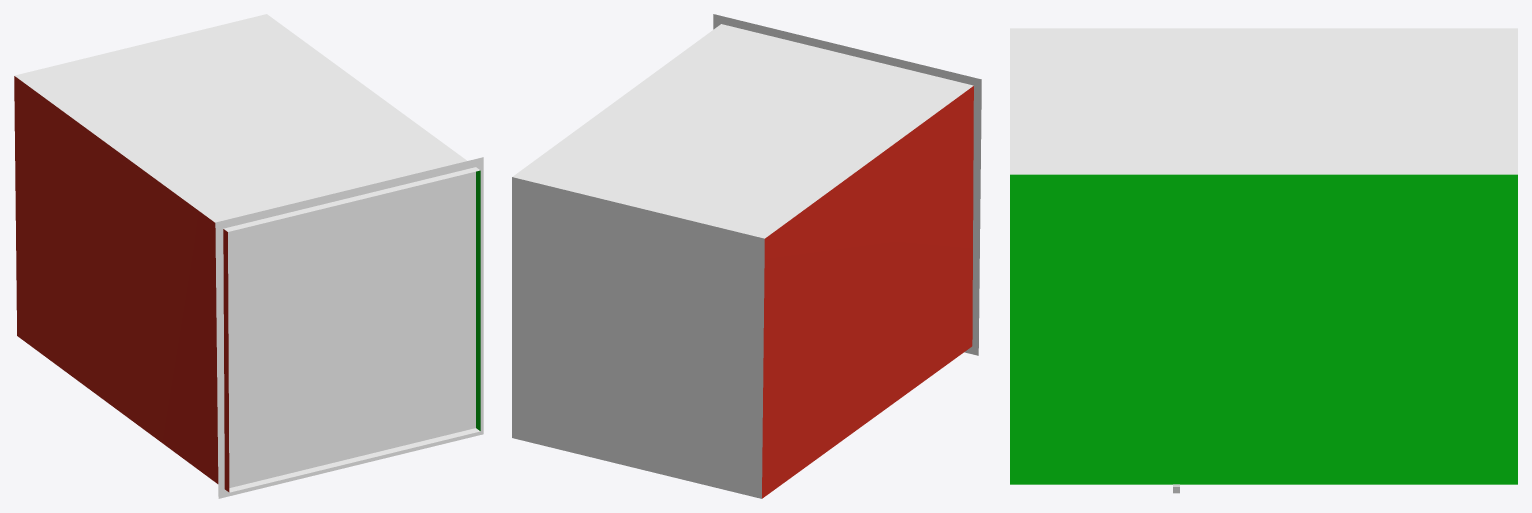
3 renders of one model, left to right at view 1: azimuth 30°, elevation 25°; view 2: azimuth 150°, elevation 25°; view 3: azimuth 270°, elevation 25°, orthographic. The views are drawn at different scales.
Visible parts, largest first — view 1: cornell_box.004, cornell_box.002, cornell_box, cornell_box.001; view 2: cornell_box.003, cornell_box.002, cornell_box, cornell_box.004; view 3: cornell_box.001, cornell_box.
Part boxes in pixels (x1,y1,x2,y2): cornell_box.004: [215, 157, 483, 498]; cornell_box.002: [14, 76, 229, 492]; cornell_box: [14, 14, 480, 492]; cornell_box.001: [476, 170, 480, 430]; cornell_box.003: [512, 177, 764, 498]; cornell_box.002: [762, 86, 973, 498]; cornell_box: [512, 24, 973, 238]; cornell_box.004: [713, 14, 981, 355]; cornell_box.001: [1010, 174, 1517, 484]; cornell_box: [1010, 28, 1517, 174].
Bounding box in the file's own units: 109 × 108 × 151.
